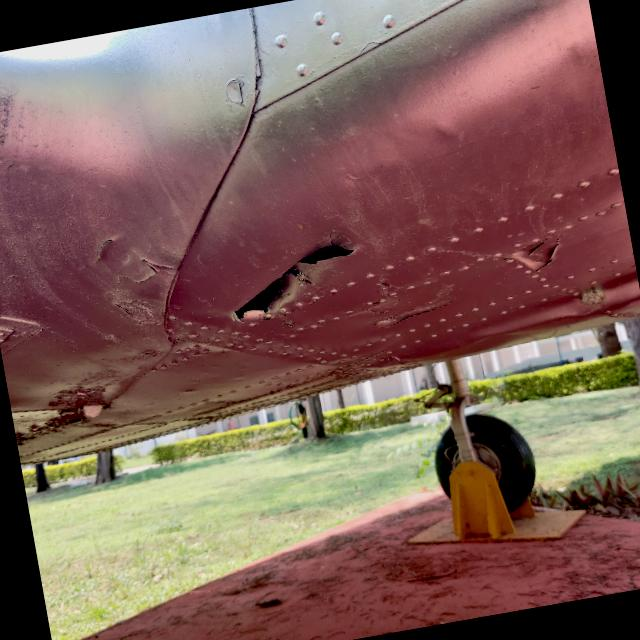dent: (424, 108, 476, 161)
